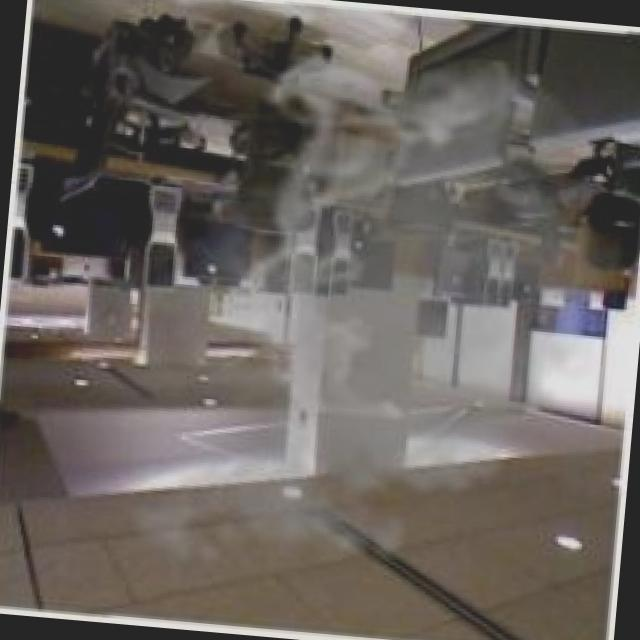smoke: (234, 52, 456, 491)
